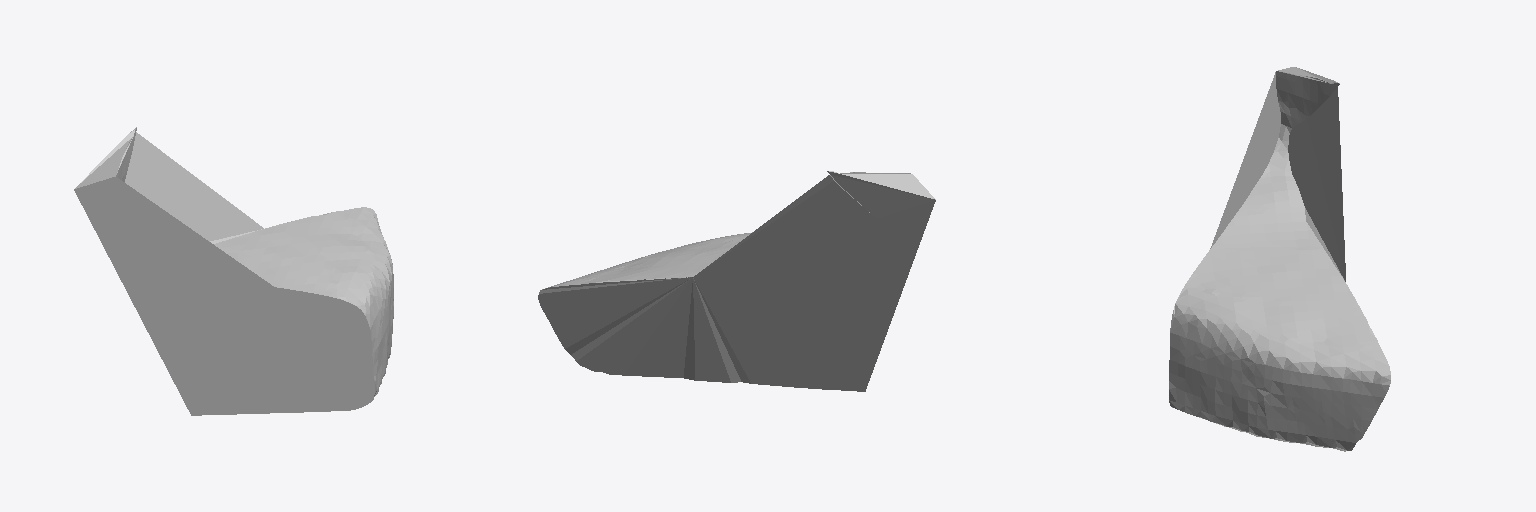
The model's file is low_cell_032.obj.
The picture shows the model from 3 angles: view 1: azimuth 30°, elevation 25°; view 2: azimuth 150°, elevation 25°; view 3: azimuth 270°, elevation 25°; orthographic projection.
Visible parts, largest first — view 1: low_cell.032_low_cell.031; view 2: low_cell.032_low_cell.031; view 3: low_cell.032_low_cell.031.
Part boxes in pixels (bbox=[...]): low_cell.032_low_cell.031: bbox=[74, 127, 393, 415]; low_cell.032_low_cell.031: bbox=[538, 171, 935, 391]; low_cell.032_low_cell.031: bbox=[1169, 67, 1390, 451].
Size of the model in its own units: 0.5631 by 0.3958 by 0.3097.